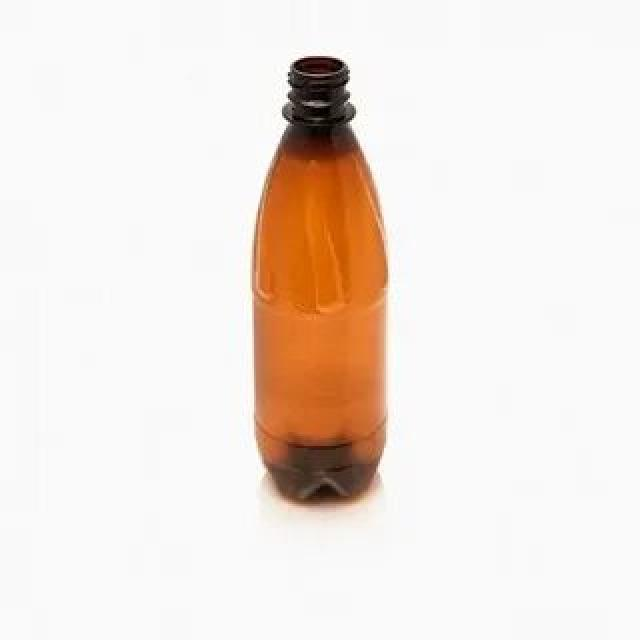brown: (252, 54, 390, 504)
